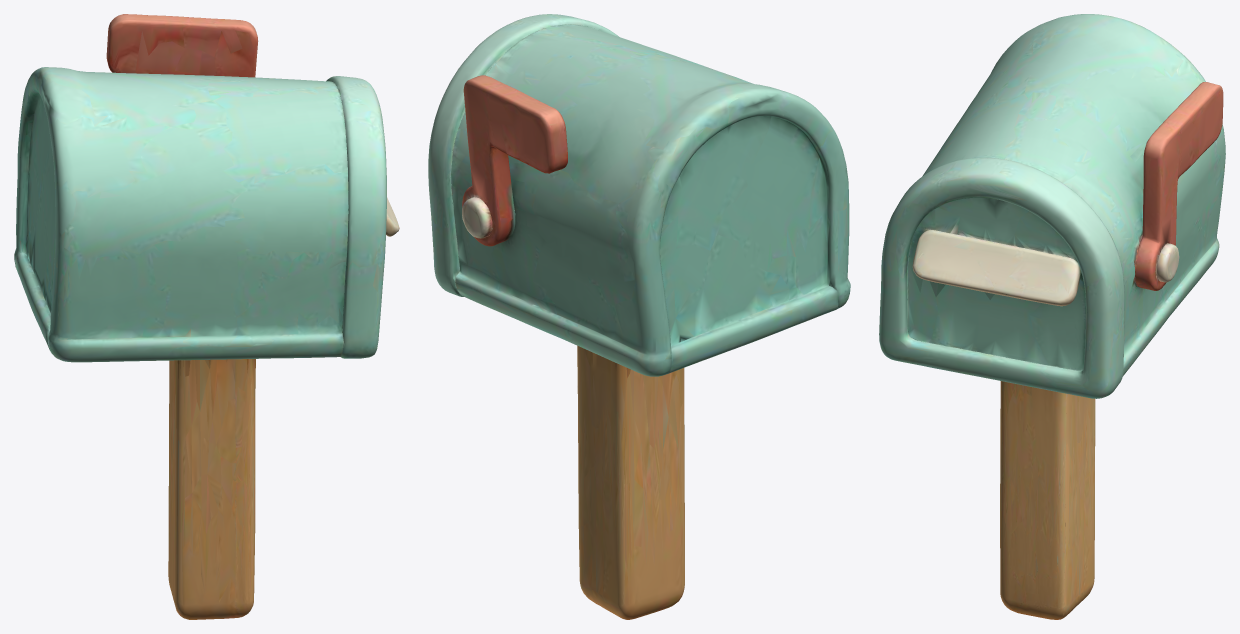
File: P02-vintage-mailbox.glb
The picture shows the model from 3 angles, left to right: view 1: azimuth 30°, elevation 25°; view 2: azimuth 150°, elevation 25°; view 3: azimuth 270°, elevation 25°; orthographic projection. The views are drawn at different scales.
Parts seen in each view (by area): view 1: P02-vintage-mailbox; view 2: P02-vintage-mailbox; view 3: P02-vintage-mailbox.
Part boxes in pixels (left/top/right/bottom): P02-vintage-mailbox: left=14, top=14, right=399, bottom=619; P02-vintage-mailbox: left=428, top=14, right=850, bottom=619; P02-vintage-mailbox: left=879, top=14, right=1225, bottom=619.
Size of the model in its own units: 0.9167 by 1.35 by 0.7999.
1 material, 1 textured.
